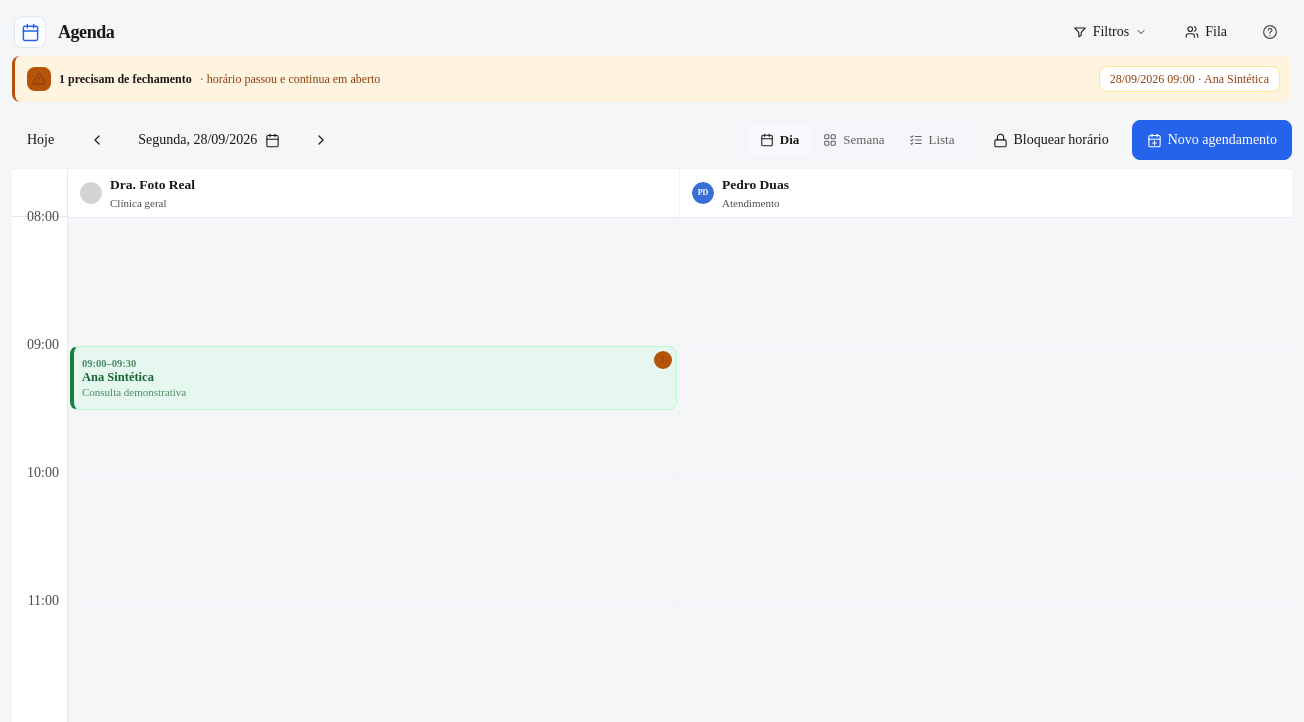
Test: CTA, Filtros e Fila continuam abrindo os fluxos existentes › 11. Fila continua abrindo (mesmo QueuePanel, como drawer em tela estreita)
Expected: the text "Dra. Foto Real" is shown, [110,175,195,195]
Click the button "Fila".
click(1206, 32)  # box [1170,12,1242,52]
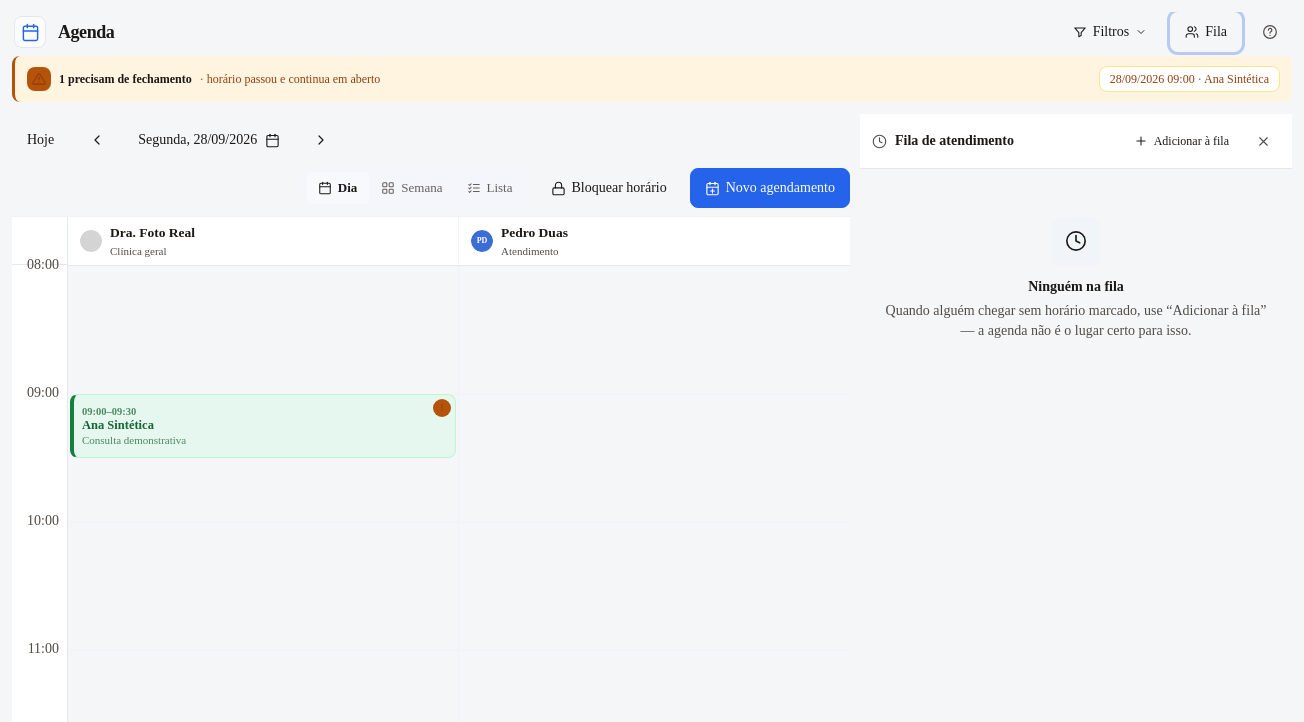
Now the element that starts with "Fila de atendimento" is shown, box [860,114,1292,389]
